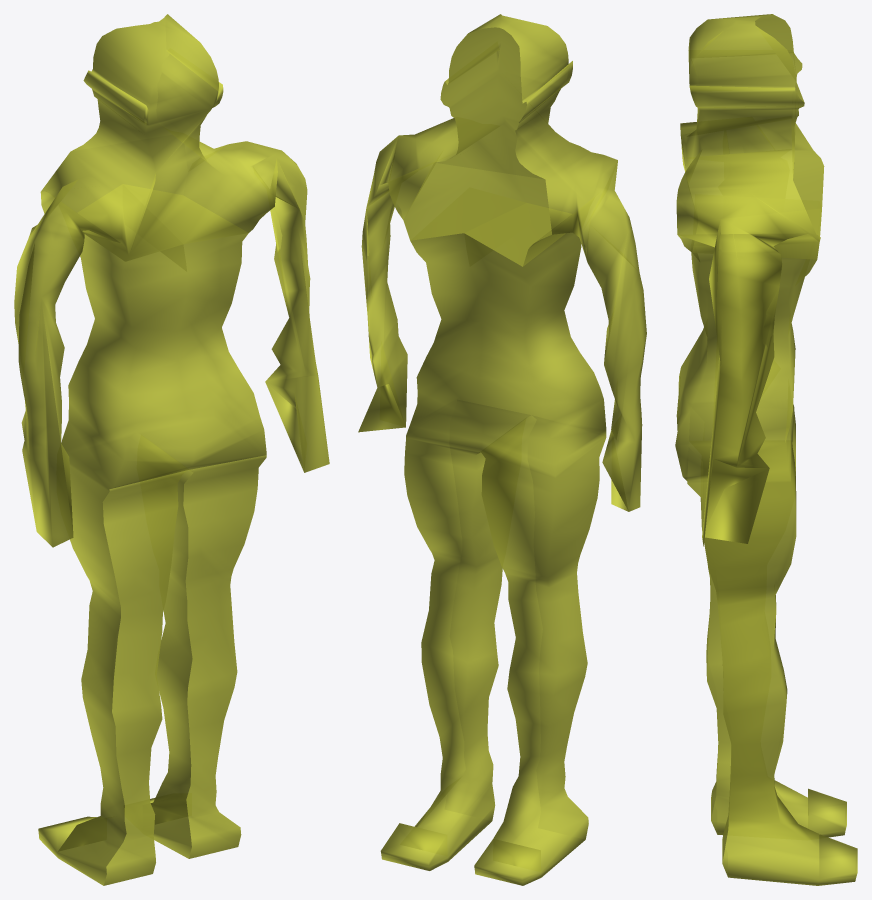
Rendered from woman_000045.obj.
3 renders of one model, left to right at view 1: azimuth 30°, elevation 25°; view 2: azimuth 150°, elevation 25°; view 3: azimuth 270°, elevation 25°, orthographic. The views are drawn at different scales.
Parts seen in each view (by area): view 1: Cube_Cube.001; view 2: Cube_Cube.001; view 3: Cube_Cube.001.
Part boxes in pixels (x1,y1,x2,y2): Cube_Cube.001: [14, 14, 329, 885]; Cube_Cube.001: [358, 14, 646, 885]; Cube_Cube.001: [675, 14, 857, 885].
Bounding box in the file's own units: 3.62 × 10.01 × 1.99.
